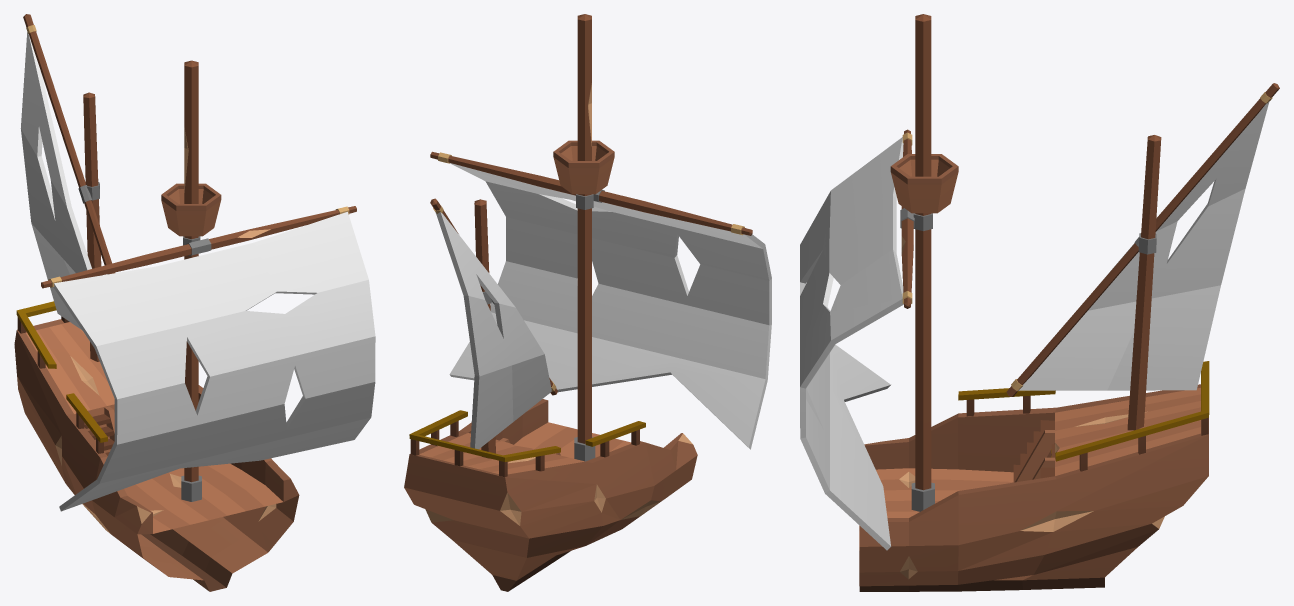
File: back-ship.glb
3 views of the same model, side by side, from view 1: azimuth 30°, elevation 25°; view 2: azimuth 150°, elevation 25°; view 3: azimuth 270°, elevation 25° (orthographic). The views are drawn at different scales.
Visible parts, largest first — view 1: back ship; view 2: back ship; view 3: back ship.
Boxes of the visible parts, box(x1,y1,x2,y2) form: back ship: box(14, 14, 375, 591); back ship: box(404, 14, 771, 591); back ship: box(800, 14, 1279, 591).
Bounding box in the file's own units: 11.88 × 18.25 × 13.84.
1 material, 1 textured.
